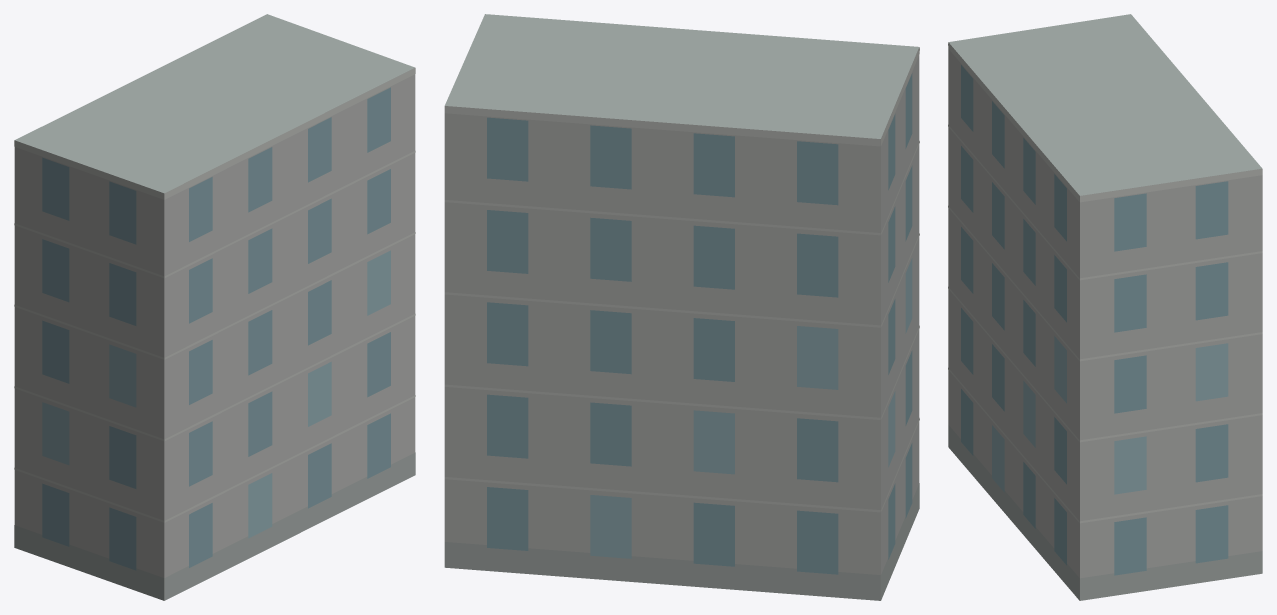
Rendered from survey-upis-32765760.glb.
3 views of the same model, side by side, from view 1: azimuth 30°, elevation 25°; view 2: azimuth 150°, elevation 25°; view 3: azimuth 270°, elevation 25° (orthographic). The views are drawn at different scales.
Visible parts, largest first — view 1: survey-upis-32765760.tmp; view 2: survey-upis-32765760.tmp; view 3: survey-upis-32765760.tmp.
Part boxes in pixels (left/top/right/bottom): survey-upis-32765760.tmp: left=14, top=14, right=415, bottom=600; survey-upis-32765760.tmp: left=444, top=14, right=919, bottom=600; survey-upis-32765760.tmp: left=948, top=14, right=1262, bottom=600.
Bounding box in the file's own units: 14.67 × 15.2 × 10.71.
